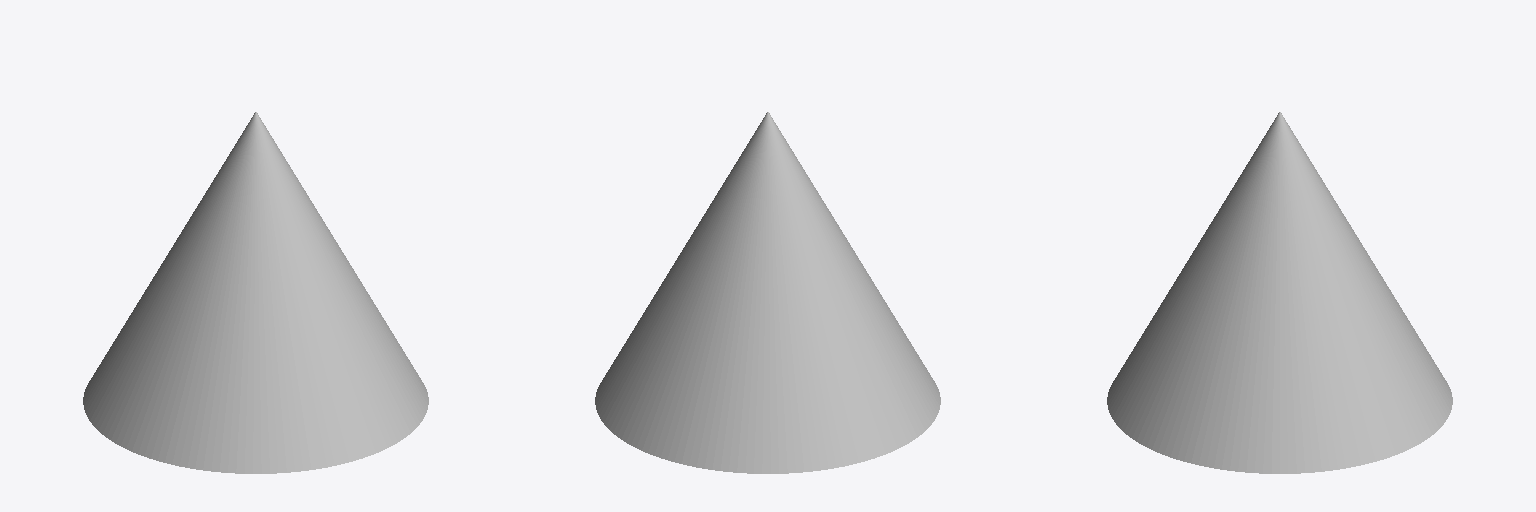
Rendered from new_cone_pivot_to_origin.obj.
3 renders of one model, left to right at view 1: azimuth 30°, elevation 25°; view 2: azimuth 150°, elevation 25°; view 3: azimuth 270°, elevation 25°, orthographic.
Parts seen in each view (by area): view 1: Cone; view 2: Cone; view 3: Cone.
Part boxes in pixels (left/top/right/bottom): Cone: left=83, top=112, right=428, bottom=473; Cone: left=595, top=112, right=940, bottom=473; Cone: left=1107, top=112, right=1452, bottom=473.
Bounding box in the file's own units: 0.054 × 0.05 × 0.054.